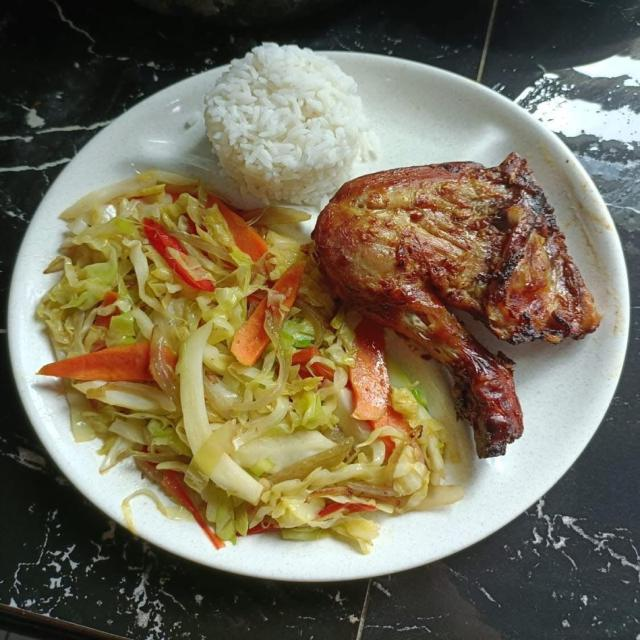Chicken: (308, 154, 598, 459)
Plate: (12, 53, 628, 578)
Rice: (203, 41, 375, 207)
Vegetables: (34, 169, 472, 552)
